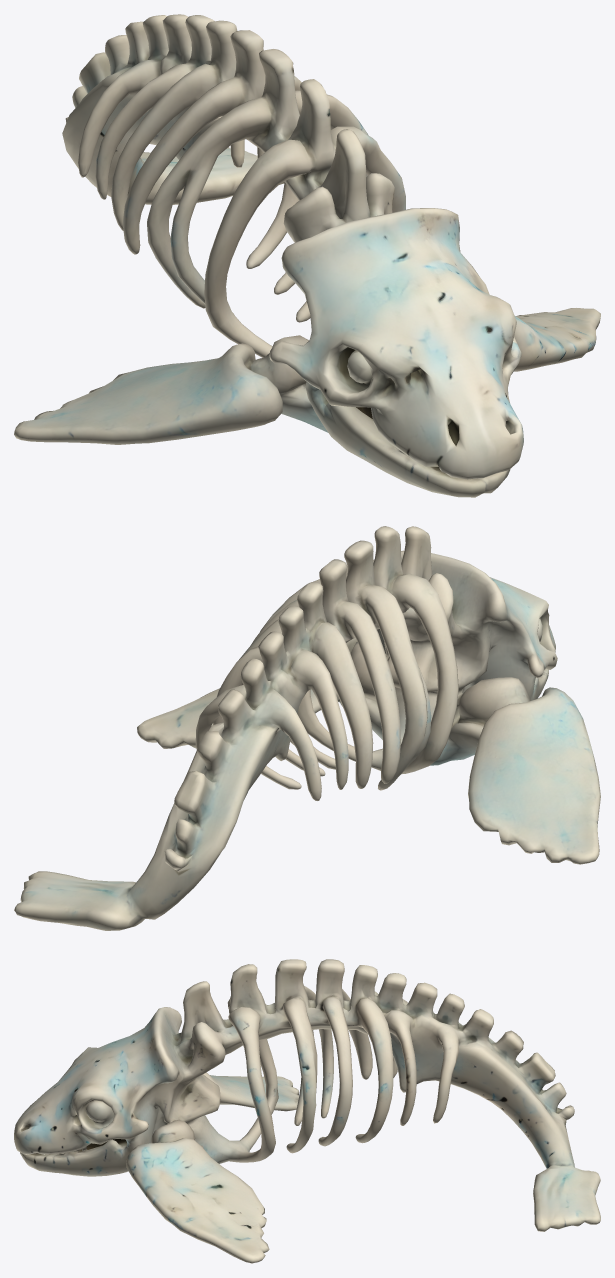
File: fossil.glb
The picture shows the model from 3 angles, top to bottom: view 1: azimuth 30°, elevation 25°; view 2: azimuth 150°, elevation 25°; view 3: azimuth 270°, elevation 25°; orthographic projection. The views are drawn at different scales.
Parts seen in each view (by area): view 1: model; view 2: model; view 3: model.
Part boxes in pixels (bbox=[...]): model: bbox=[14, 14, 600, 497]; model: bbox=[14, 526, 600, 930]; model: bbox=[14, 959, 600, 1263].
Size of the model in its own units: 1.4 by 0.7529 by 1.9.
Materials: 1 (1 with a texture image).
